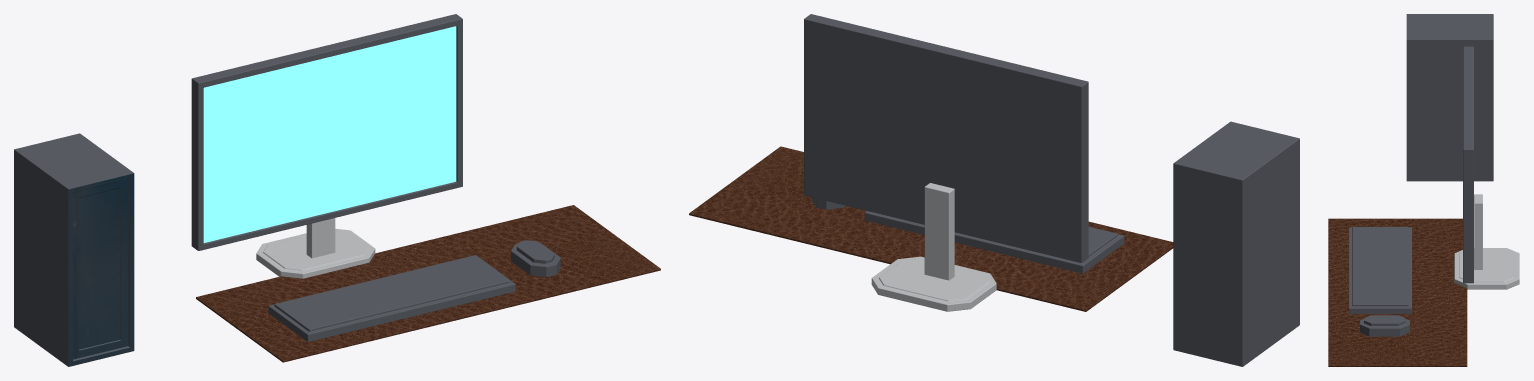
File: workstation_single.glb
The picture shows the model from 3 angles, left to right: view 1: azimuth 30°, elevation 25°; view 2: azimuth 150°, elevation 25°; view 3: azimuth 270°, elevation 25°; orthographic projection. The views are drawn at different scales.
Parts seen in each view (by area): view 1: Workstation_Single; view 2: Workstation_Single; view 3: Workstation_Single.
Boxes of the visible parts, <box> form: Workstation_Single: <box>14,14,660,366</box>; Workstation_Single: <box>689,14,1299,366</box>; Workstation_Single: <box>1328,14,1519,366</box>.
Bounding box in the file's own units: 1.38 × 0.528 × 0.528.
Materials: 5 (2 with a texture image).
